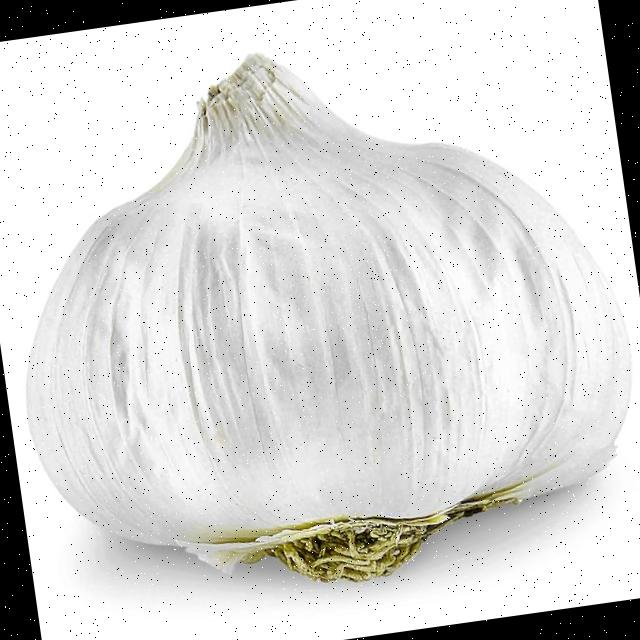garlic: (27, 56, 630, 580)
